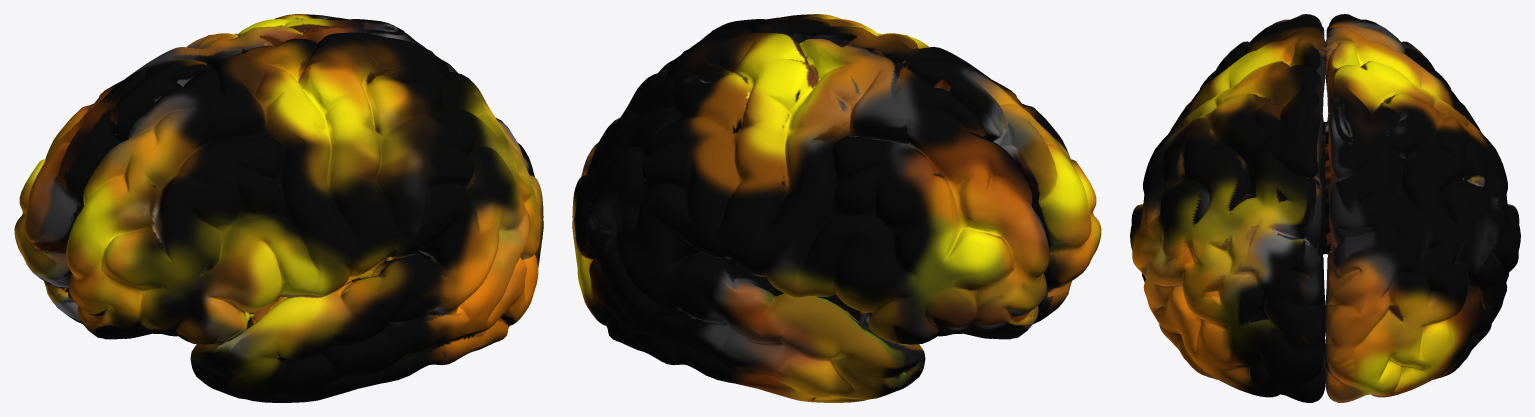
File: feet.glb
3 renders of one model, left to right at view 1: azimuth 30°, elevation 25°; view 2: azimuth 150°, elevation 25°; view 3: azimuth 270°, elevation 25°, orthographic. The views are drawn at different scales.
Visible parts, largest first — view 1: Right, Left; view 2: Left, Right; view 3: Left, Right.
Boxes of the visible parts, bbox=[...] form: Right: bbox=[66, 32, 543, 402]; Left: bbox=[14, 14, 457, 336]; Left: bbox=[572, 32, 1049, 402]; Right: bbox=[658, 14, 1101, 336]; Left: bbox=[1323, 14, 1520, 402]; Right: bbox=[1130, 14, 1327, 402].
Bounding box in the file's own units: 1.32 × 0.8373 × 1.06.
Materials: 2 (2 with a texture image).
